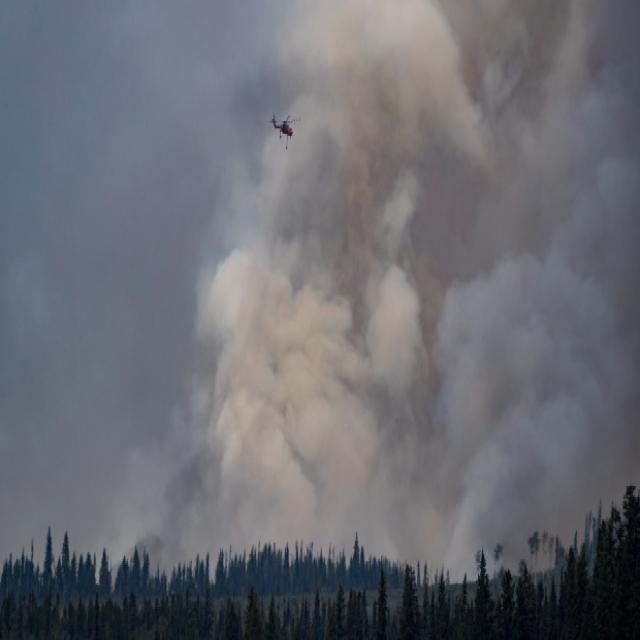Smoke: (193, 0, 640, 585)
